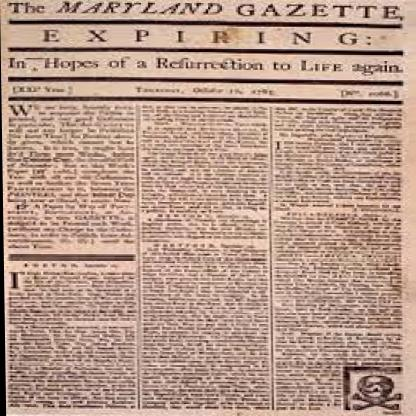Paper: (2, 2, 416, 416)
